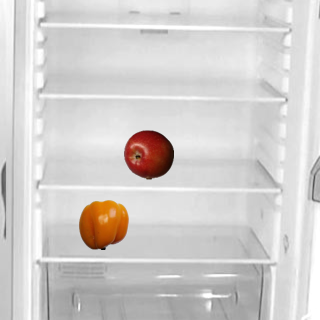Apple Braeburn: (123, 129, 173, 179)
Pepper Yellow: (78, 199, 128, 249)
